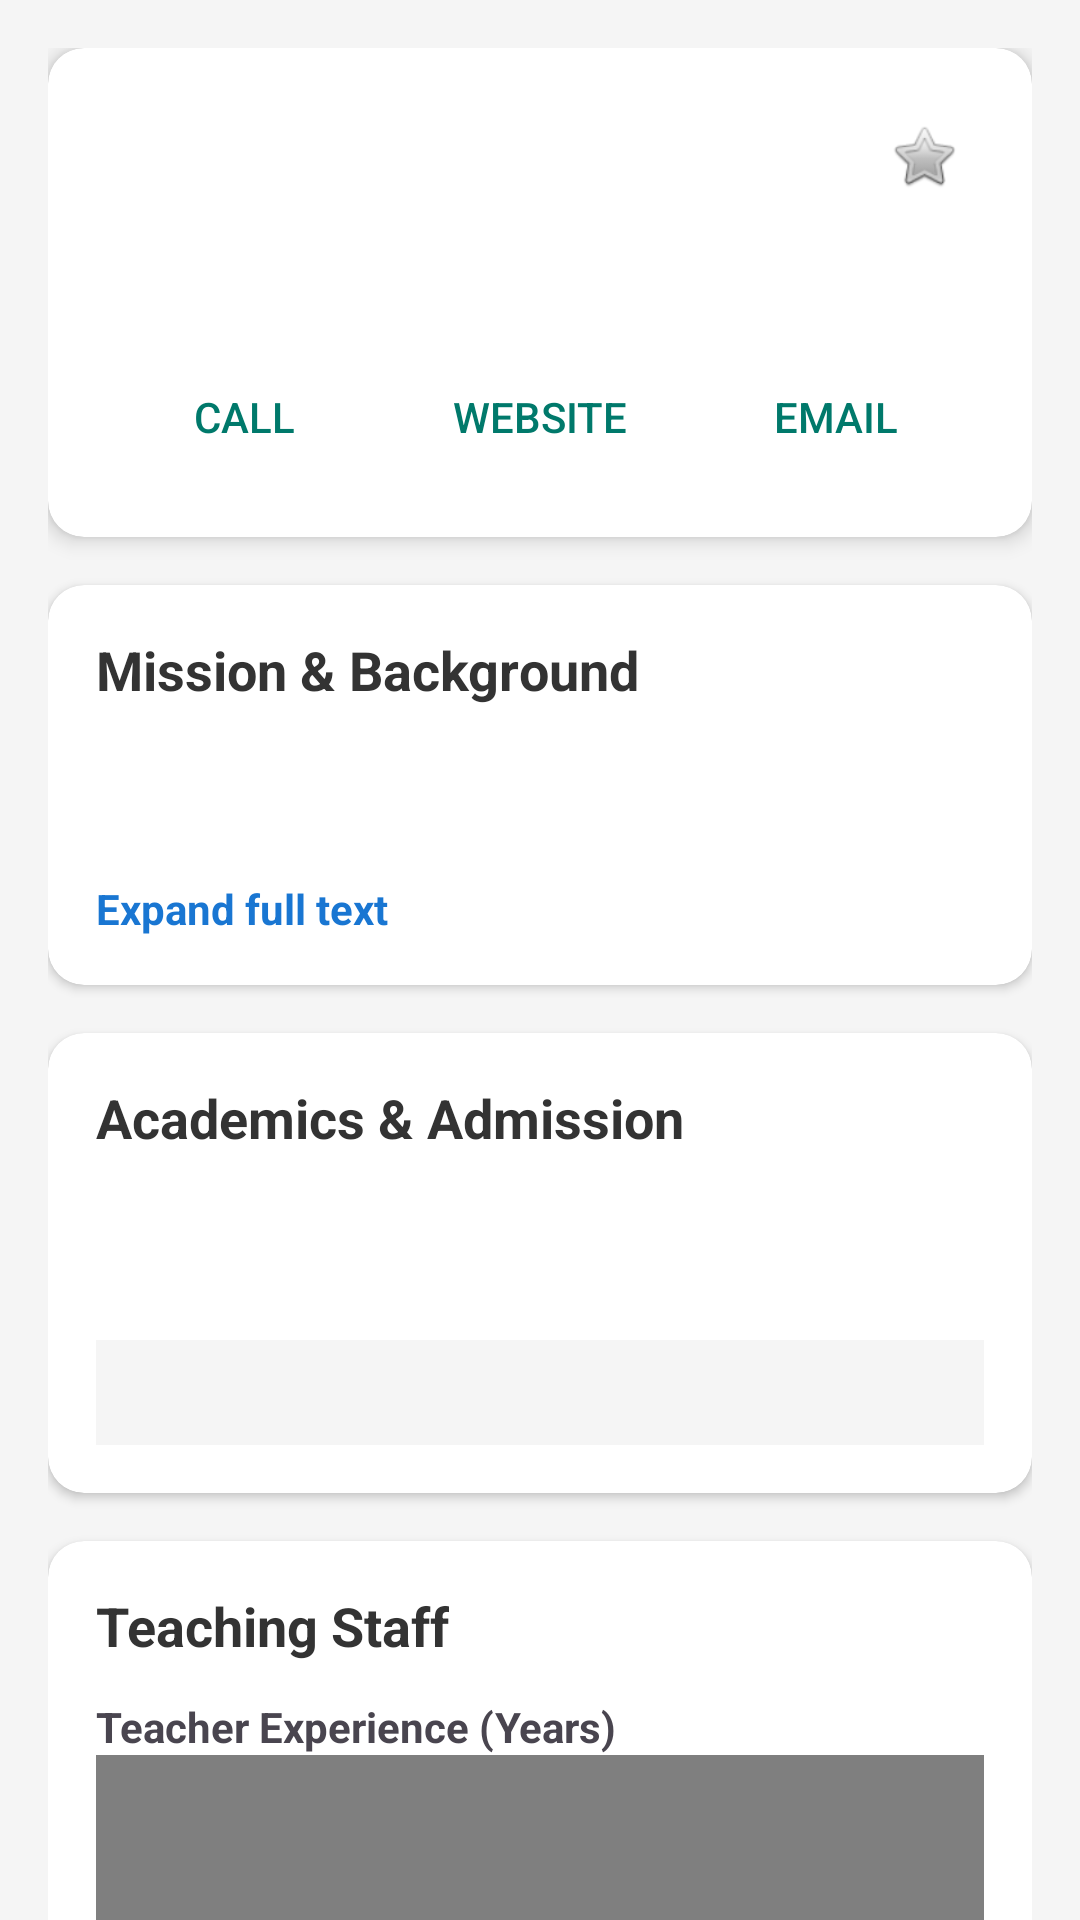

Named icons in this screenshot (1080 × 1920) and their centers, [x,y]:
Favorite button: [925,156]
